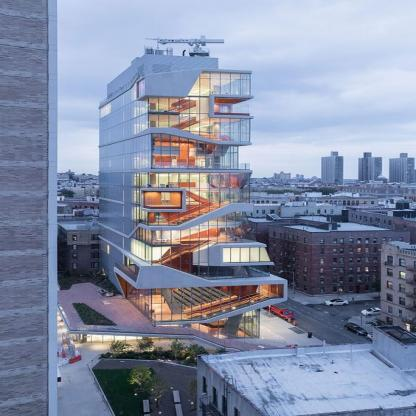Balcony: (153, 162, 250, 170)
Building Outline: (66, 35, 297, 365)
Facade: (143, 71, 289, 342)
Floor Slab: (155, 298, 283, 325), (148, 203, 250, 228), (162, 242, 257, 266), (153, 265, 270, 283), (149, 127, 250, 144), (153, 169, 250, 172), (215, 94, 254, 98), (223, 263, 273, 266), (214, 113, 249, 116), (149, 112, 179, 115), (153, 244, 182, 247), (151, 207, 181, 209)
Glass Wall: (153, 211, 270, 280), (149, 73, 251, 142), (86, 308, 260, 343), (148, 172, 250, 226), (155, 284, 283, 323), (153, 134, 238, 169), (223, 247, 271, 263), (214, 98, 249, 114), (152, 192, 181, 207)
